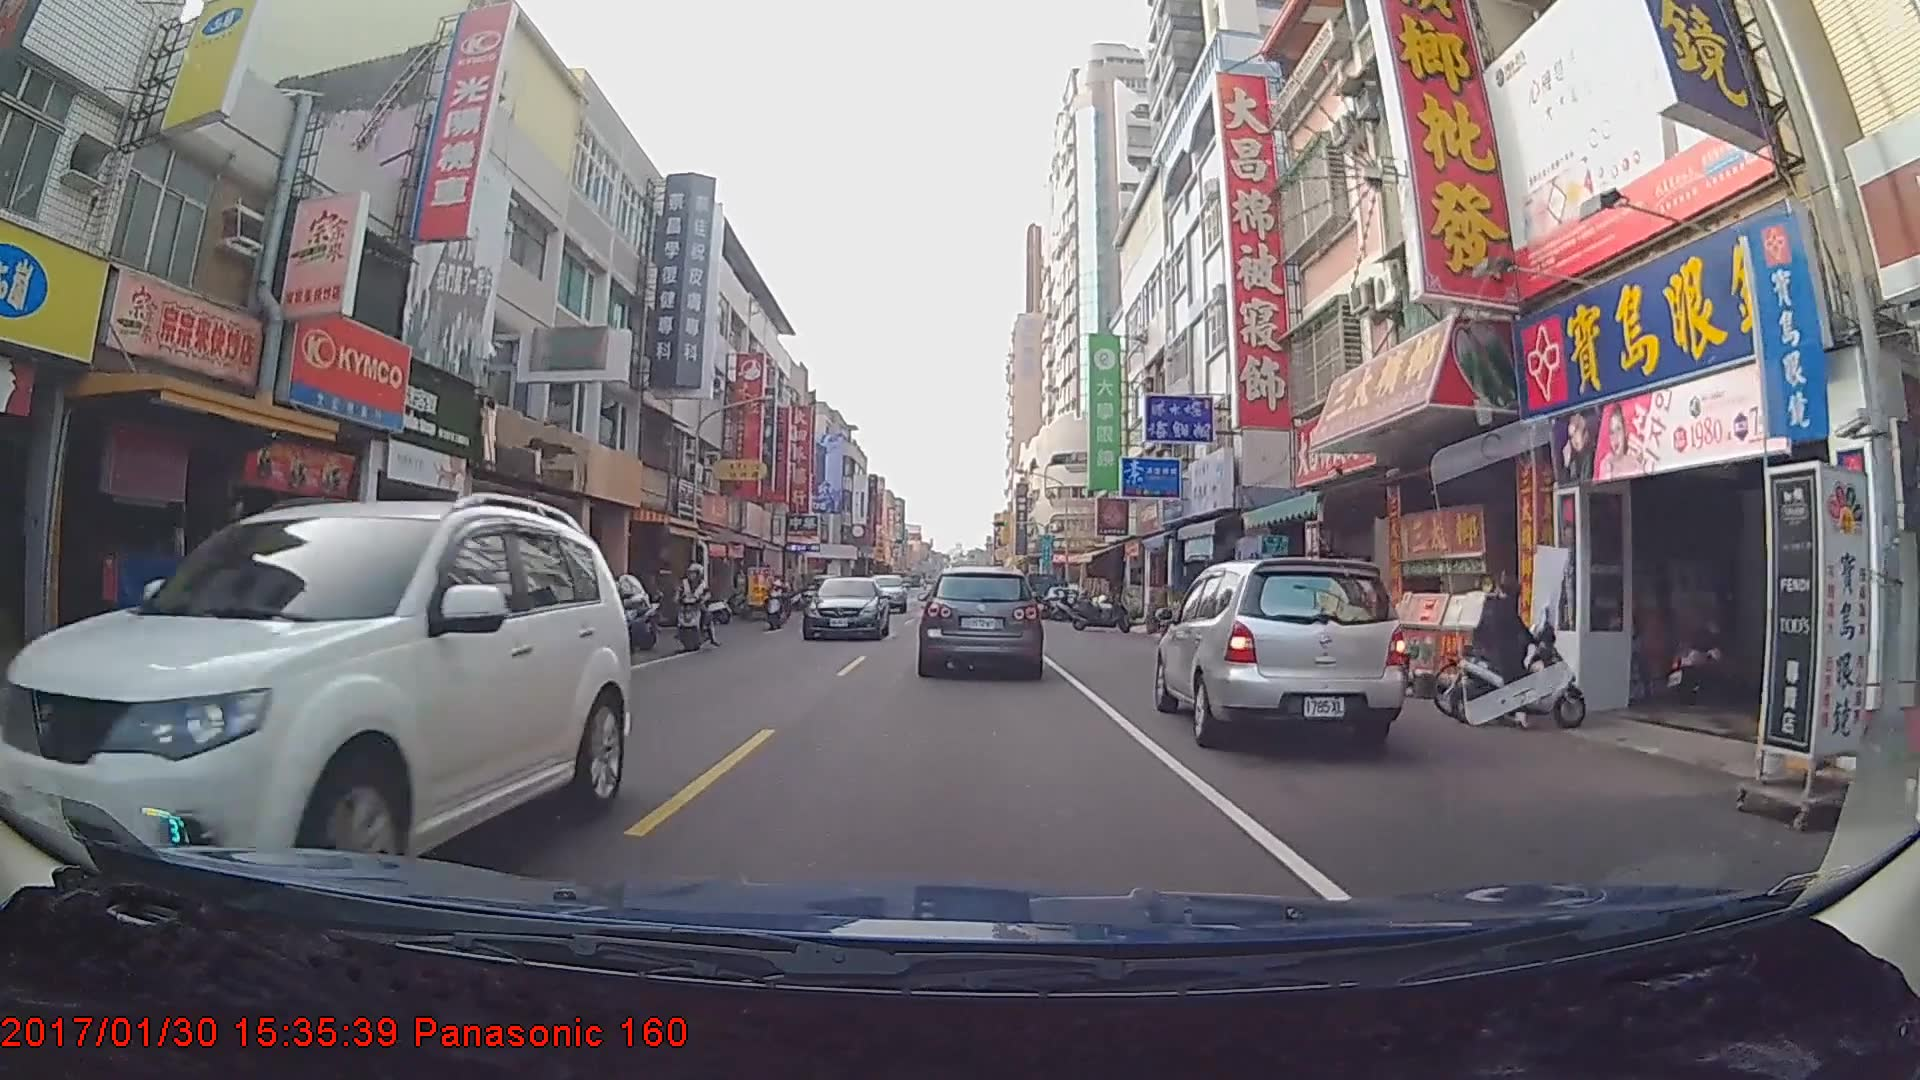rider: (1447, 574, 1598, 741), (666, 560, 726, 652), (760, 576, 790, 628)
vehicle: (0, 492, 630, 929), (1152, 559, 1402, 749), (918, 565, 1042, 675), (802, 575, 891, 642), (860, 572, 907, 612)
